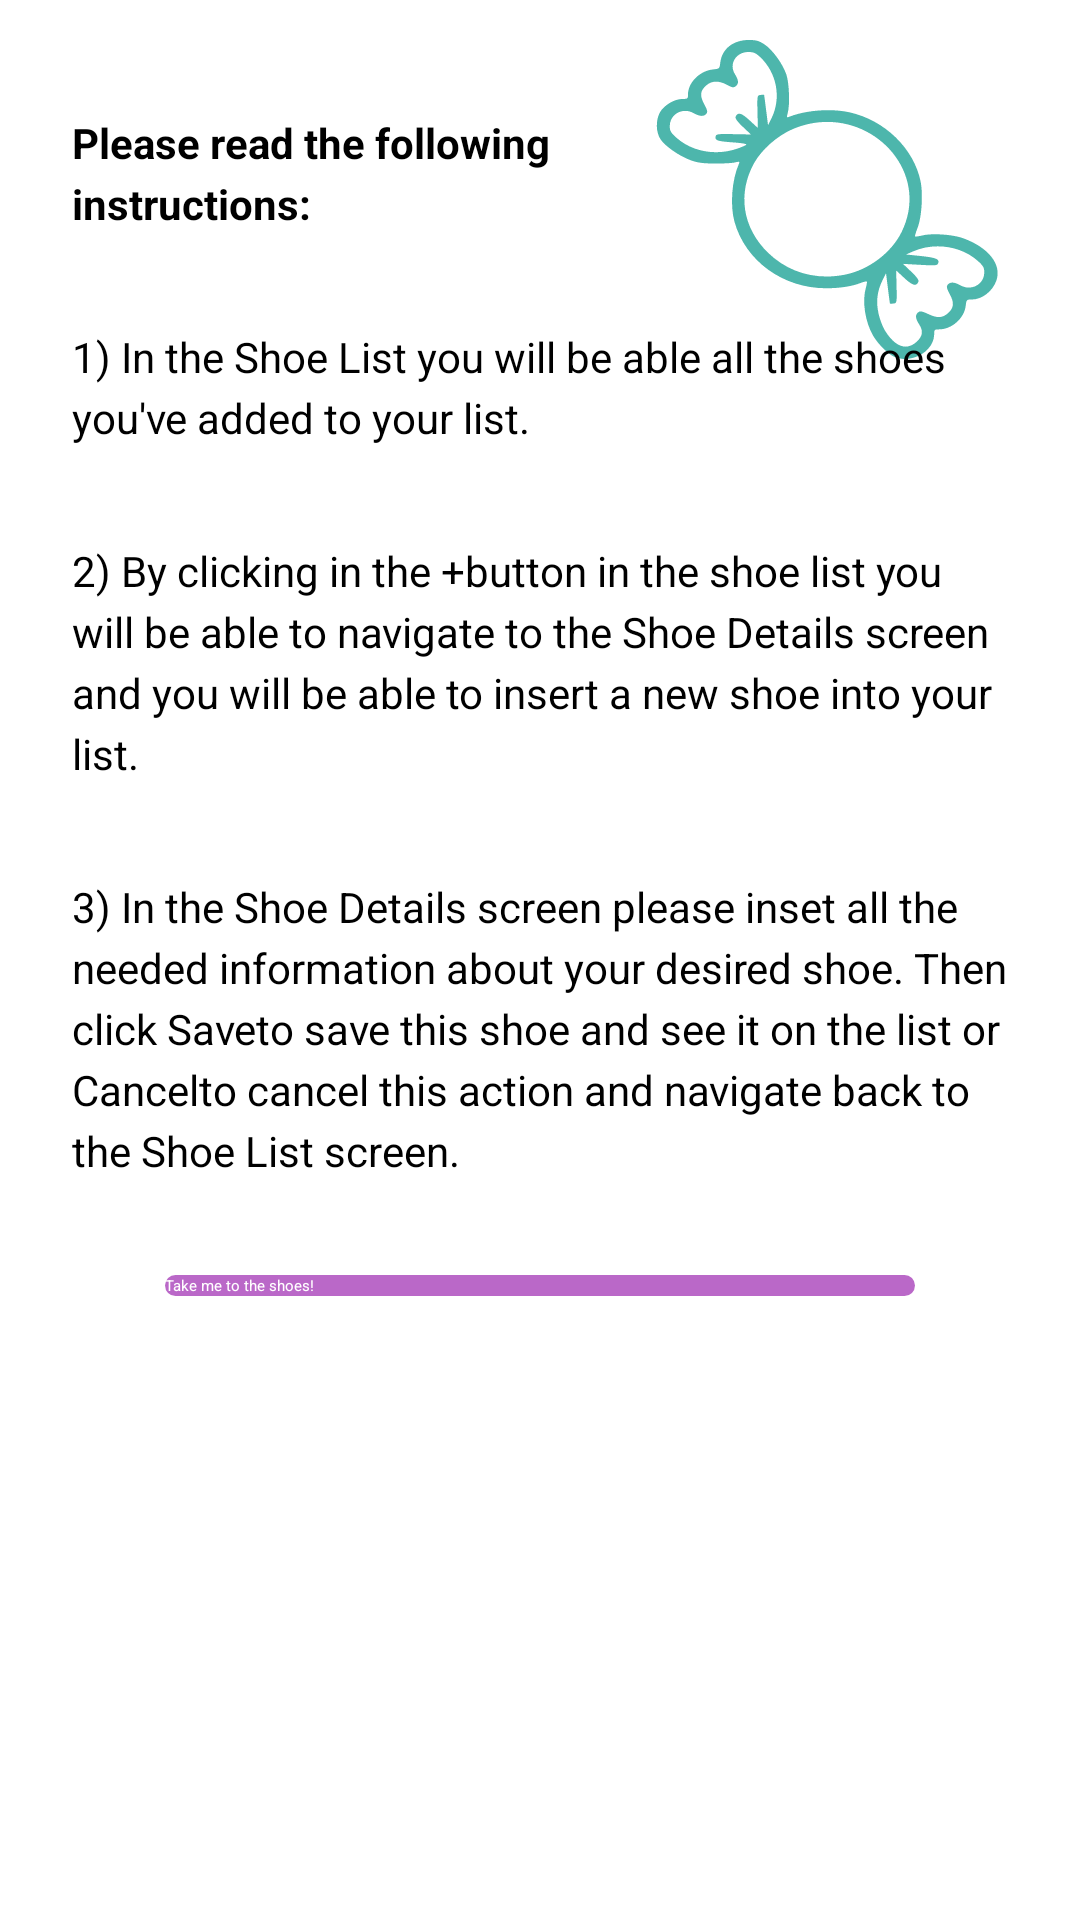

Named icons in this screenshot (1080 × 1920) and their centers, (x=x, y=y):
sweet: (x=823, y=207)
